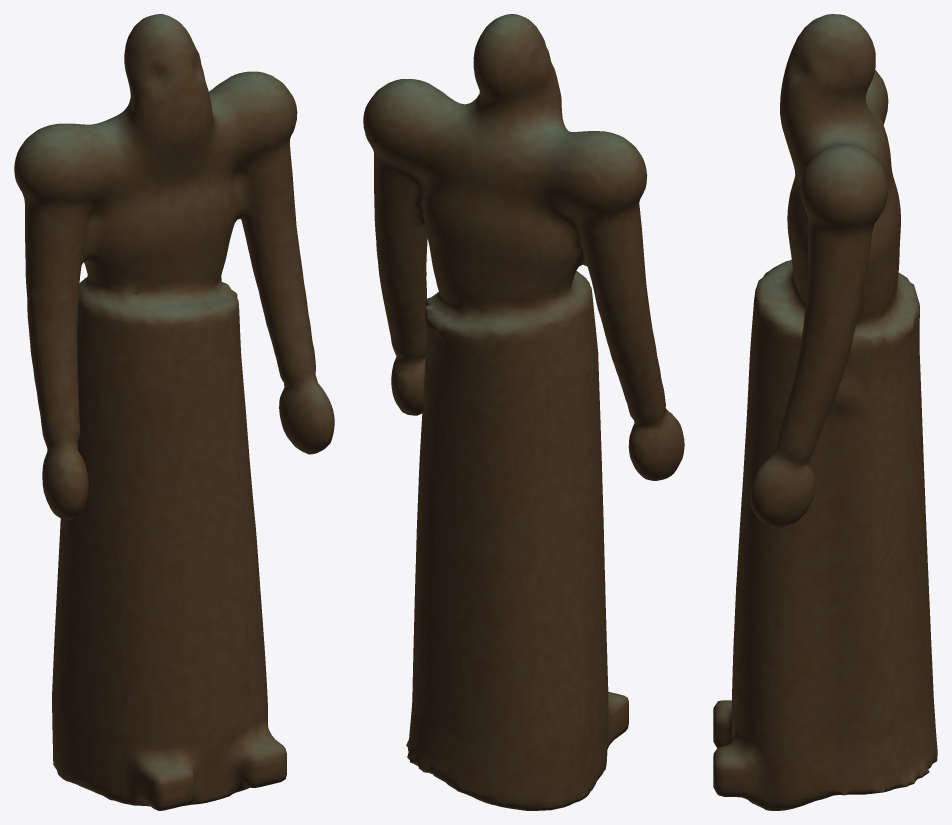
Rendered from writer_akaki.glb.
The picture shows the model from 3 angles, left to right: view 1: azimuth 30°, elevation 25°; view 2: azimuth 150°, elevation 25°; view 3: azimuth 270°, elevation 25°; orthographic projection.
Parts seen in each view (by area): view 1: wr_m; view 2: wr_m; view 3: wr_m.
Boxes of the visible parts, x1,y1,x2,y2 form: wr_m: [14, 14, 334, 810]; wr_m: [363, 14, 684, 810]; wr_m: [713, 14, 937, 810].
Size of the model in its own units: 0.3904 by 1 by 0.2664.
